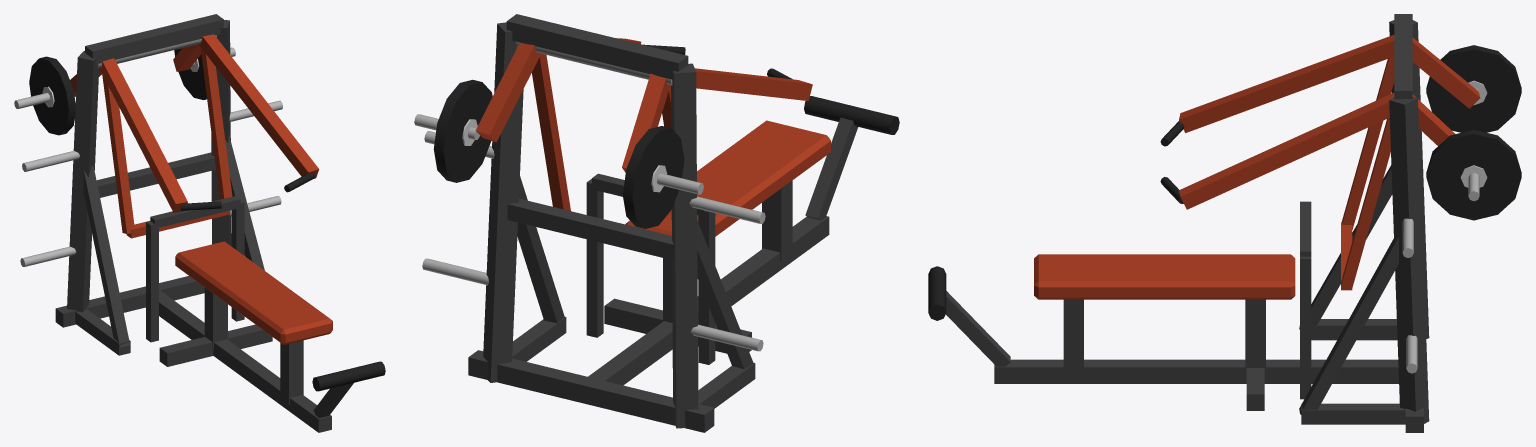
File: Laydown_Chest_Press.fbx
3 renders of one model, left to right at view 1: azimuth 30°, elevation 25°; view 2: azimuth 150°, elevation 25°; view 3: azimuth 270°, elevation 25°, orthographic. The views are drawn at different scales.
Parts seen in each view (by area): view 1: Laydown_Chest_Press; view 2: Laydown_Chest_Press; view 3: Laydown_Chest_Press.
Boxes of the visible parts, <box> form: Laydown_Chest_Press: <box>14,14,385,432</box>; Laydown_Chest_Press: <box>414,14,899,432</box>; Laydown_Chest_Press: <box>928,14,1521,432</box>.
Bounding box in the file's own units: 156 × 159 × 261.
